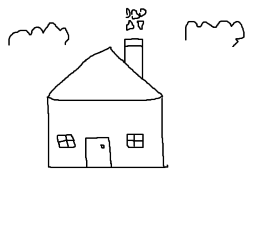closed_window: (115, 129, 150, 151), (53, 130, 79, 152)
clouds: (4, 14, 76, 57), (180, 12, 247, 56)
door: (80, 129, 120, 172)
roof: (34, 44, 172, 105)
smoking_chimney: (119, 2, 155, 79)
wall: (40, 96, 167, 171)
